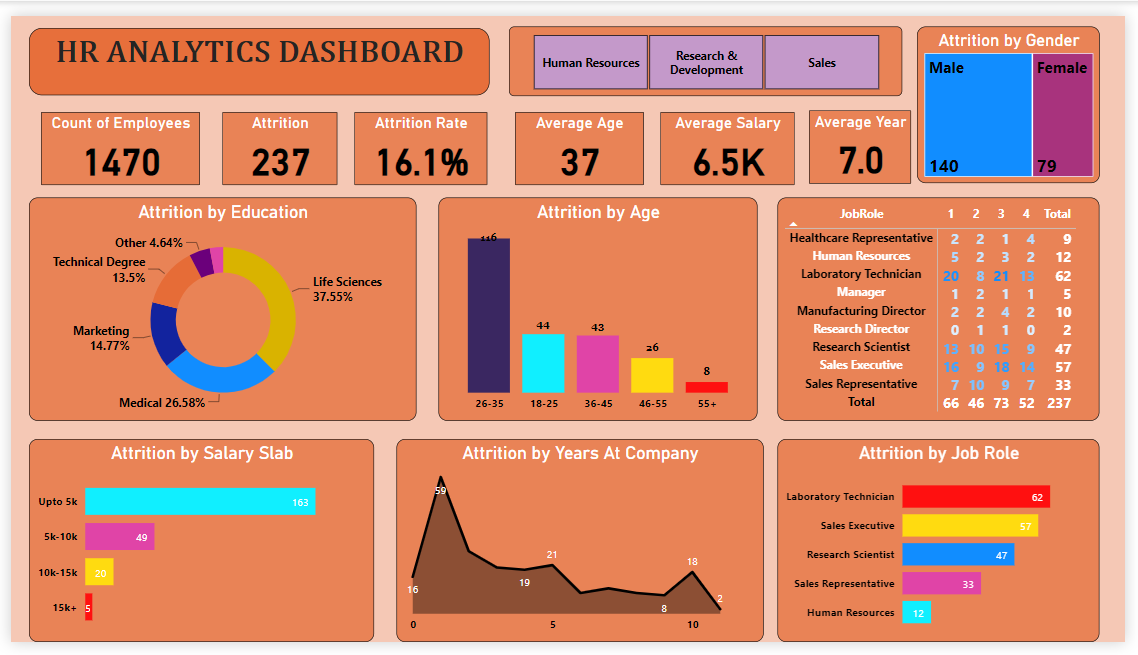

The page's visual inventory and layout, read from the dashboard file:
{"tool":"powerbi","page":{"name":"Page 1","canvas":[1280,720],"ordinal":0},"visuals":[{"type":"card","title":"Count of Employees","fields":{"Values":["Sum(HR_Analytics.EmployeeCount)"]},"box":[35,109.7,182.8,84.2],"z":0},{"type":"card","title":"Average Age","fields":{"Values":["Avg(HR_Analytics.Age)"]},"box":[580.1,109.7,147.8,84.2],"z":1000},{"type":"card","title":"Attrition Rate","fields":{"Values":["HR_Analytics.AttritionRate"]},"box":[394.2,109.7,152.6,84.2],"z":2000},{"type":"card","title":"Attrition","fields":{"Values":["Sum(HR_Analytics.AttritionCount)"]},"box":[243.2,109.7,131.9,84.2],"z":3000},{"type":"card","title":"Average Salary","fields":{"Values":["Avg(HR_Analytics.MonthlyIncome)"]},"box":[747,109.7,154.2,84.2],"z":4000},{"type":"card","title":"Average Year","fields":{"Values":["Avg(HR_Analytics.YearsAtCompany)"]},"box":[917.1,108.1,117.6,84.2],"z":5000},{"type":"donutChart","title":"Attrition by Education","fields":{"Category":["HR_Analytics.EducationField"],"Y":["Sum(HR_Analytics.AttritionCount)"]},"box":[20,208.3,445,256.7],"z":6000},{"type":"columnChart","title":"Attrition by Age","fields":{"Y":["Sum(HR_Analytics.AttritionCount)"],"Category":["HR_Analytics.AgeGroup"]},"box":[491.7,208.3,366.7,256.7],"z":7000},{"type":"pivotTable","fields":{"Rows":["HR_Analytics.JobRole"],"Columns":["HR_Analytics.JobSatisfaction"],"Values":["Sum(HR_Analytics.AttritionCount)"]},"box":[881.7,208.3,370,256.7],"z":8000},{"type":"barChart","title":"Attrition by Salary Slab","fields":{"Category":["HR_Analytics.SalarySlab"],"Y":["Sum(HR_Analytics.AttritionCount)"]},"box":[20,486.7,396.7,233.3],"z":9000},{"type":"barChart","title":"Attrition by Job Role","fields":{"Y":["Sum(HR_Analytics.AttritionCount)"],"Category":["HR_Analytics.JobRole"]},"box":[881.7,486.7,370,233.3],"z":10000},{"type":"areaChart","title":"Attrition by Years At Company","fields":{"Category":["HR_Analytics.YearsAtCompany"],"Y":["Sum(HR_Analytics.AttritionCount)"]},"box":[443.3,486.7,421.7,233.3],"z":11000},{"type":"treemap","title":"Attrition by Gender","fields":{"Values":["Sum(HR_Analytics.AttritionCount)"],"Group":["HR_Analytics.Gender"]},"box":[1041.7,11.7,210,180],"z":12000},{"type":"slicer","title":"Department","fields":{"Values":["HR_Analytics.Department"]},"box":[571.7,11.7,451.7,80],"z":13000},{"type":"textbox","box":[20,13,529,77],"z":14000}]}

Visuals, with their boxes in screenshot pixels (x1, y1, x2, y2), scaled from the page's 1280x720 canvas onto the 1138x655 screenshot:
"Count of Employees" card: [31, 100, 194, 176]
"Average Age" card: [516, 100, 647, 176]
"Attrition Rate" card: [350, 100, 486, 176]
"Attrition" card: [216, 100, 333, 176]
"Average Salary" card: [664, 100, 801, 176]
"Average Year" card: [815, 98, 920, 175]
"Attrition by Education" donutChart: [18, 189, 413, 423]
"Attrition by Age" columnChart: [437, 189, 763, 423]
pivotTable - HR_Analytics.JobRole x HR_Analytics.JobSatisfaction: [784, 189, 1113, 423]
"Attrition by Salary Slab" barChart: [18, 443, 370, 654]
"Attrition by Job Role" barChart: [784, 443, 1113, 654]
"Attrition by Years At Company" areaChart: [394, 443, 769, 654]
"Attrition by Gender" treemap: [926, 11, 1113, 174]
"Department" slicer: [508, 11, 910, 83]
textbox: [18, 12, 488, 82]
